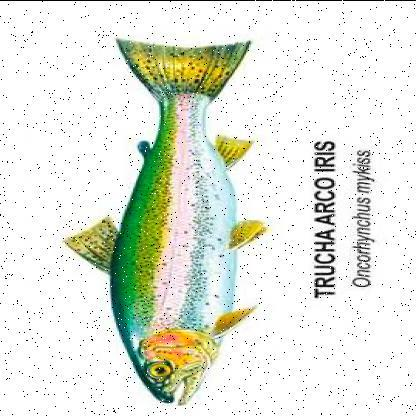fish: (64, 41, 268, 405)
